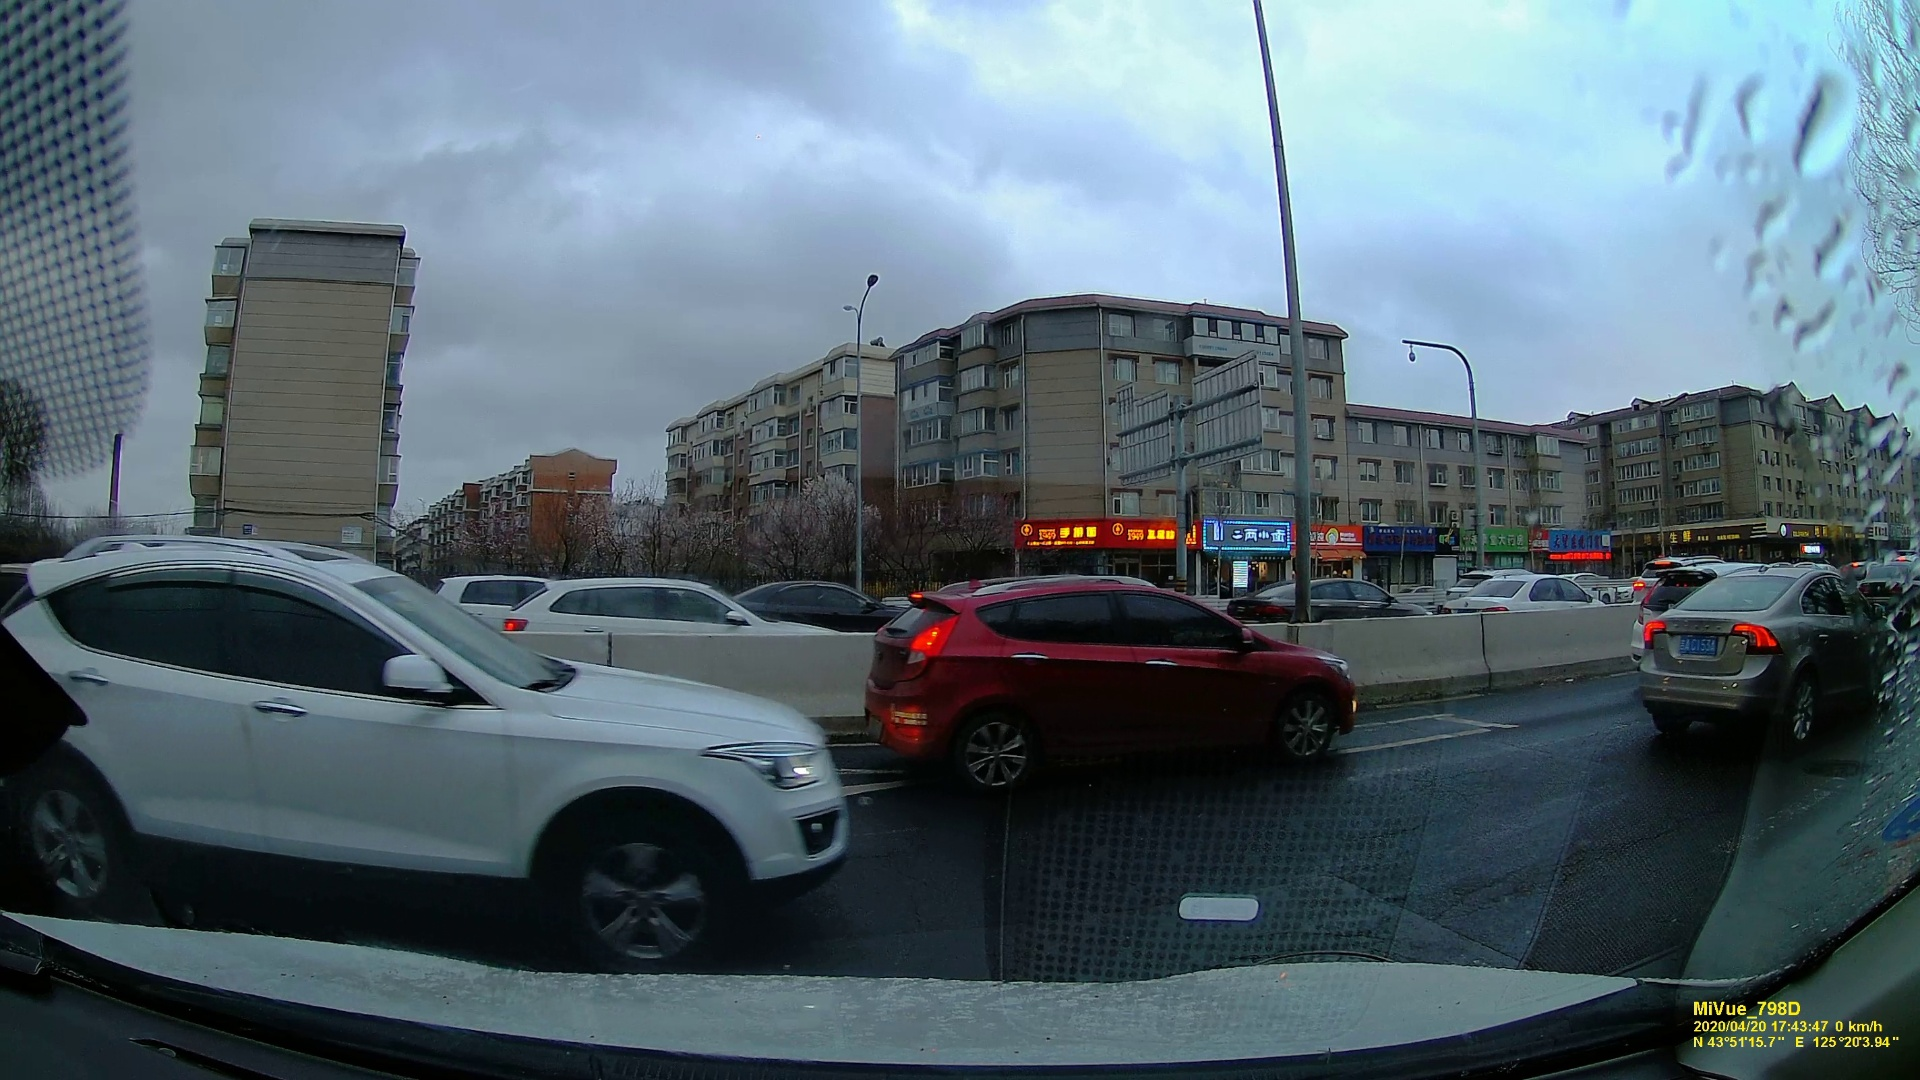vehicle: (1, 545, 837, 960), (866, 578, 1352, 785), (1640, 564, 1898, 746), (505, 572, 835, 647), (1237, 574, 1423, 621), (1447, 574, 1604, 616)
